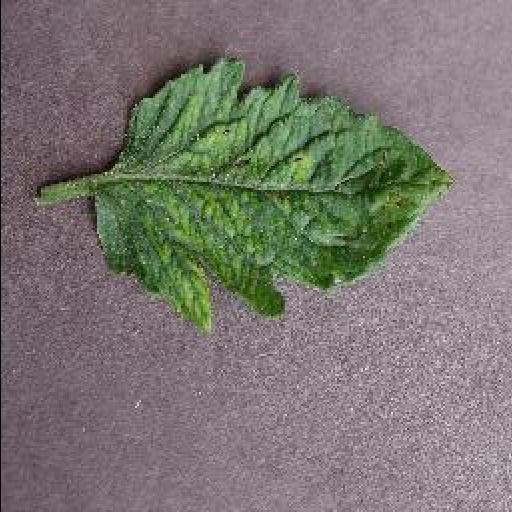disease_tomato: (89, 57, 451, 331)
